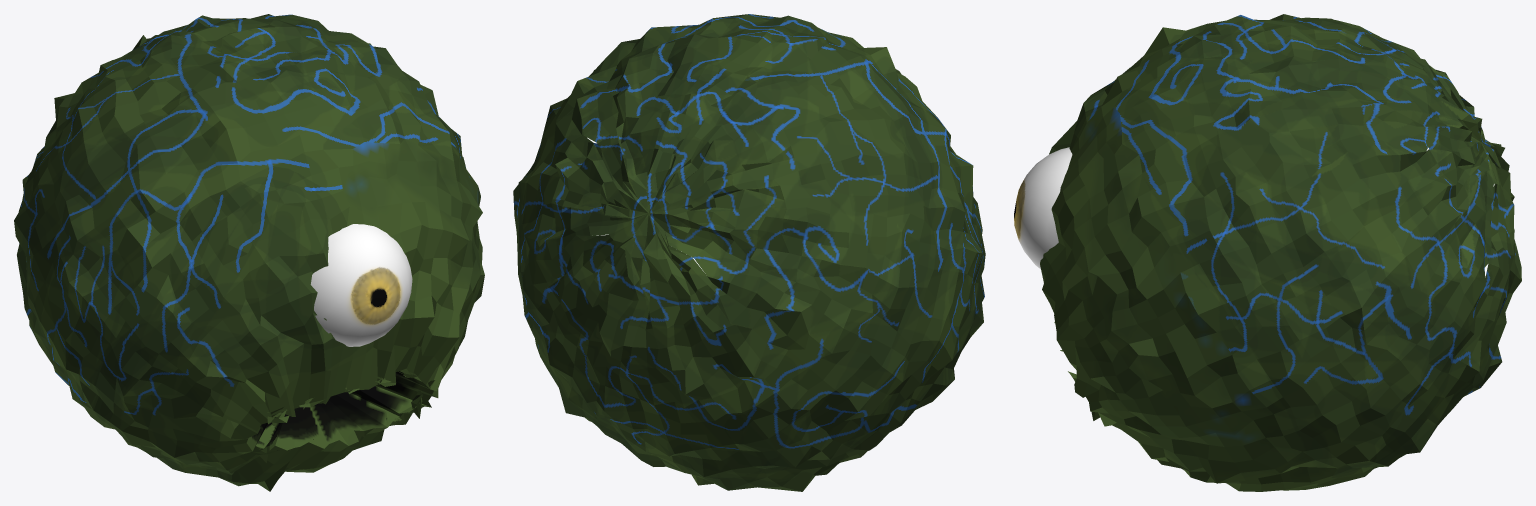
File: Watcher.glb
3 views of the same model, side by side, from view 1: azimuth 30°, elevation 25°; view 2: azimuth 150°, elevation 25°; view 3: azimuth 270°, elevation 25° (orthographic). The views are drawn at different scales.
Parts seen in each view (by area): view 1: Watcher; view 2: Watcher; view 3: Watcher.
Boxes of the visible parts, <box> form: Watcher: <box>14,14,484,491</box>; Watcher: <box>513,14,985,491</box>; Watcher: <box>1014,14,1521,491</box>.
Bounding box in the file's own units: 1.27 × 1.3 × 1.34.
1 material, 1 textured.
